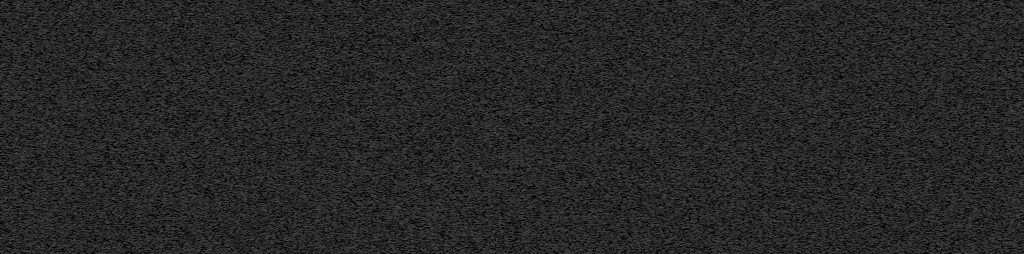wv_am: (0, 0, 26, 254), (9, 0, 15, 254), (822, 0, 827, 254)
wv_lsb: (3, 6, 9, 220), (74, 25, 79, 204), (61, 6, 67, 49), (74, 205, 79, 254), (2, 221, 9, 254), (62, 189, 66, 224), (62, 95, 66, 126), (62, 139, 66, 168), (62, 50, 66, 77), (74, 3, 79, 24), (62, 78, 66, 94), (62, 225, 66, 237), (62, 169, 66, 181), (62, 238, 66, 247), (62, 128, 66, 137), (62, 248, 66, 254), (62, 182, 66, 188)
wv_usb: (6, 48, 11, 110), (6, 164, 11, 220), (6, 111, 11, 163), (0, 6, 3, 77), (6, 221, 11, 254), (0, 78, 3, 131), (0, 139, 3, 187), (0, 198, 3, 245), (6, 8, 10, 24), (6, 28, 10, 38), (0, 188, 3, 197), (0, 246, 3, 254), (0, 132, 3, 138), (6, 42, 10, 46)
wv_wbfm: (843, 88, 860, 254), (843, 0, 858, 88)
